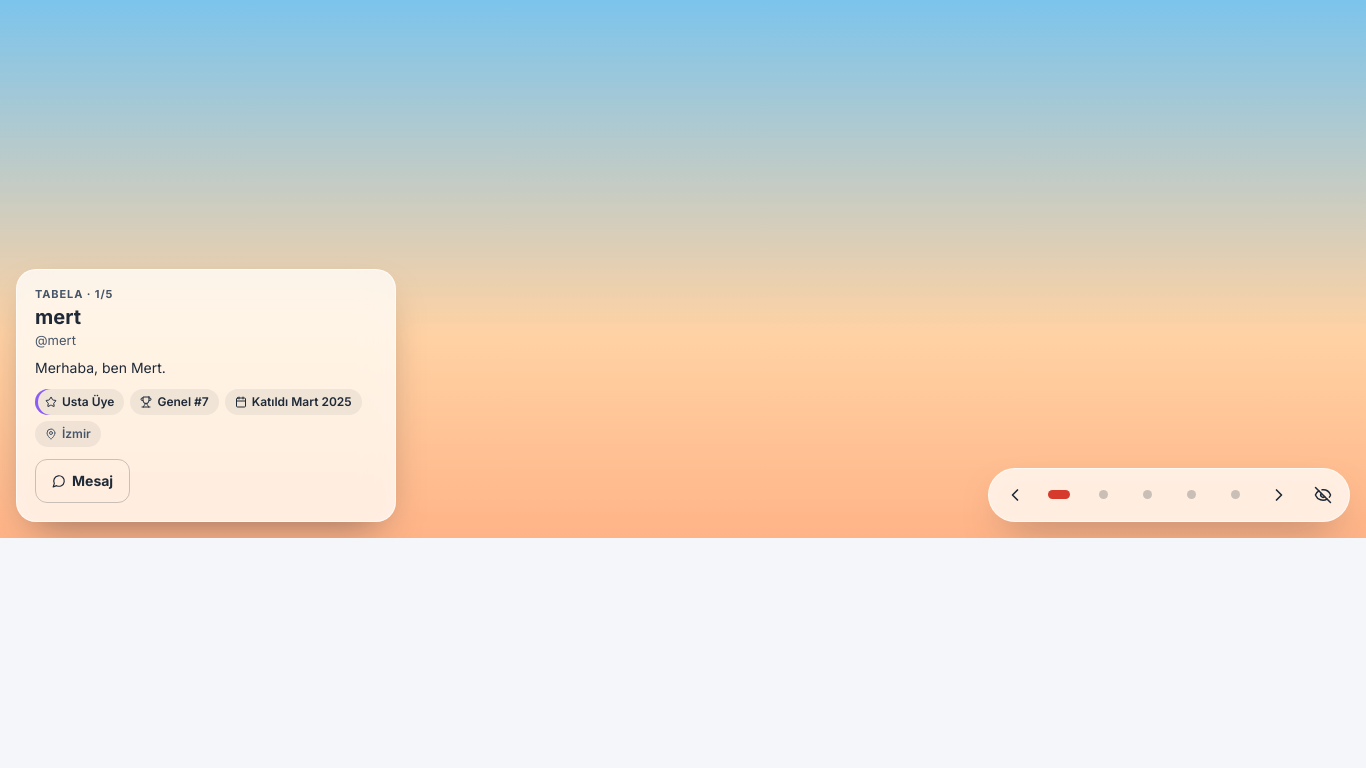
Test case: ProfileIslandHero — durak gezintisi › kartı gizle/göster düğmesi aria-expanded ile çalışır
Click the button named "Bilgi kartını gizle". click: {"x": 1323, "y": 495}
box: [1301, 473, 1345, 517]
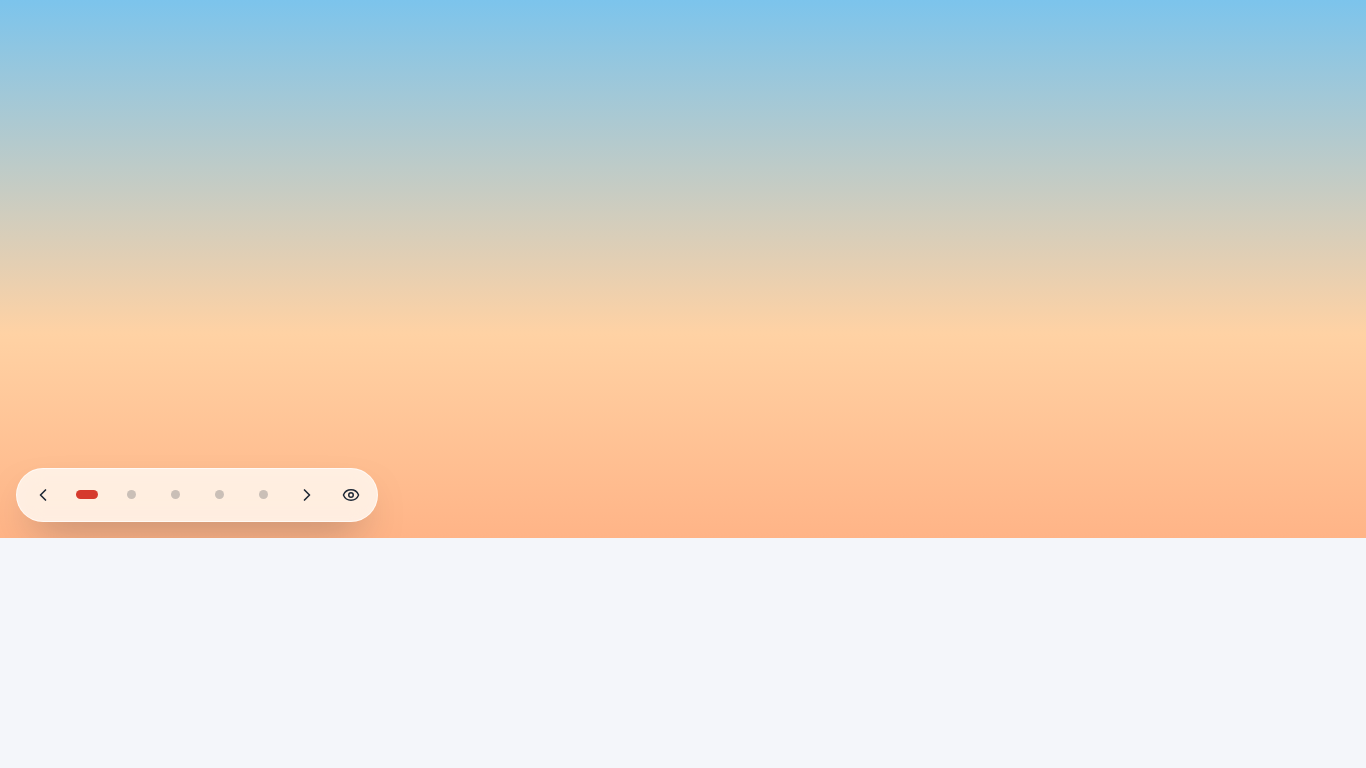
Now the button named "Bilgi kartını göster" is collapsed, box [329, 473, 373, 517]
